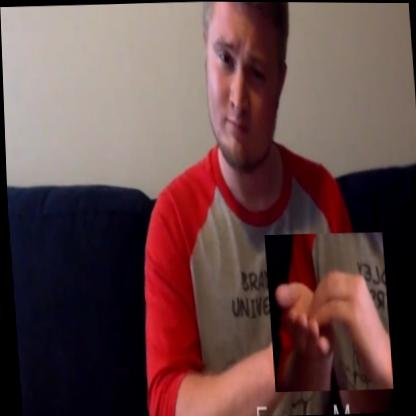ExcuseMe: (263, 230, 390, 392)
